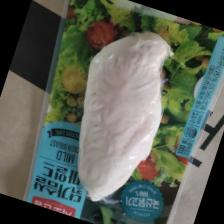chicken: (48, 14, 186, 214)
